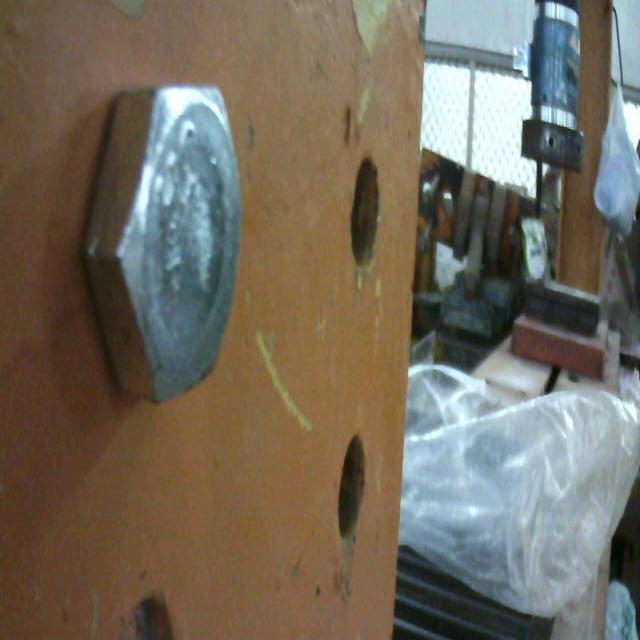Missing bolt: (349, 151, 385, 267), (334, 434, 371, 536), (118, 590, 178, 640)
Regular bolt: (82, 88, 248, 403)
